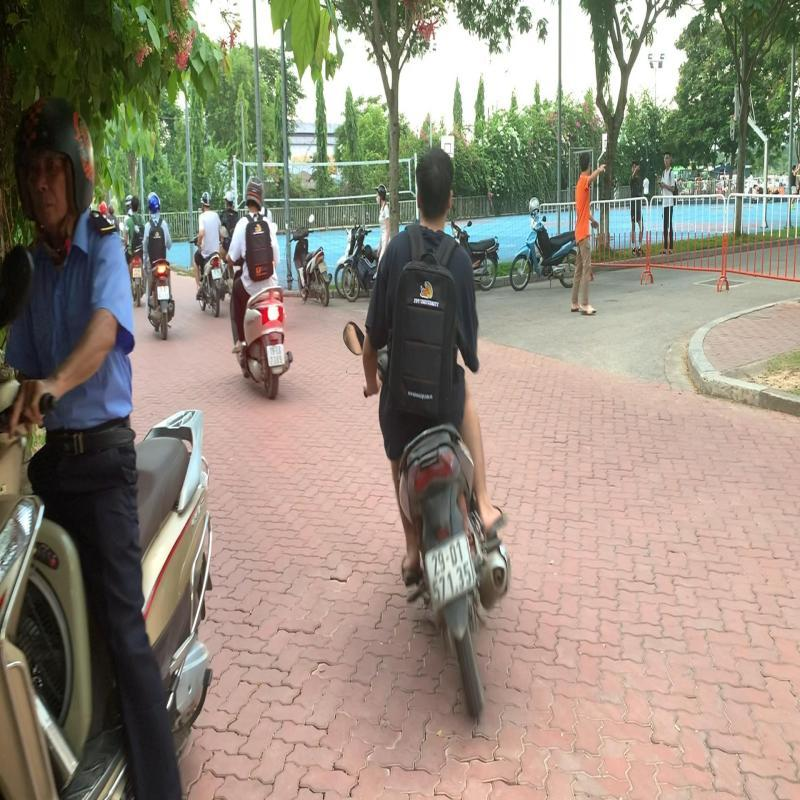licenseplate: (425, 531, 476, 608)
motorcyclist: (340, 139, 514, 724)
nohelmet: (414, 142, 454, 222)
